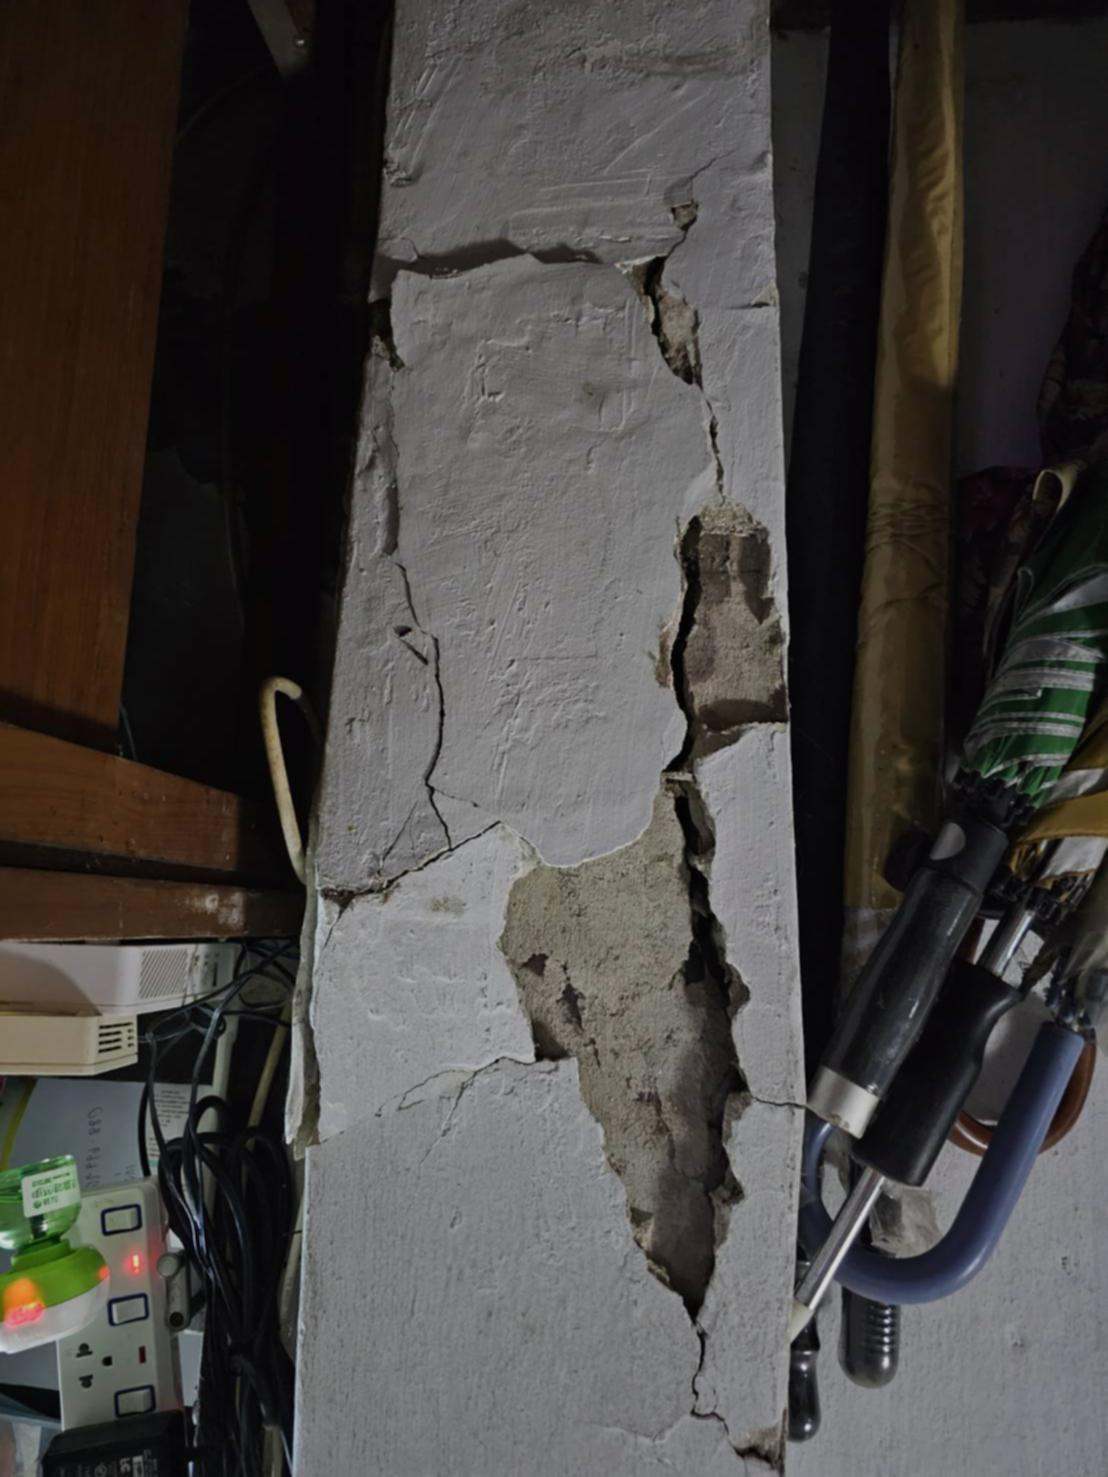High: (286, 152, 798, 1474)
